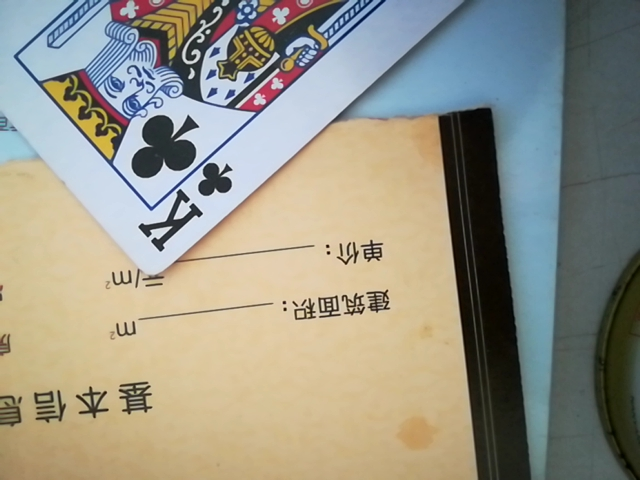mh k: (1, 0, 552, 285)
